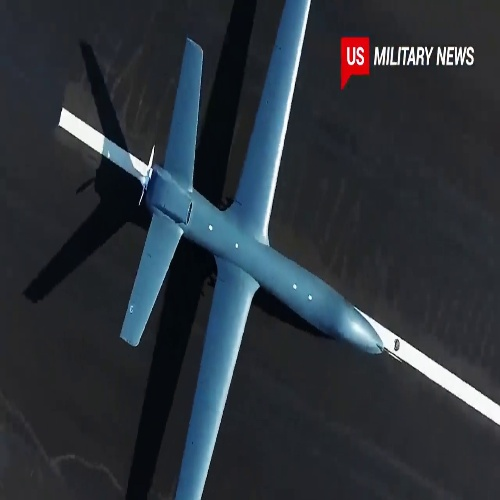uav: (119, 1, 386, 500)
